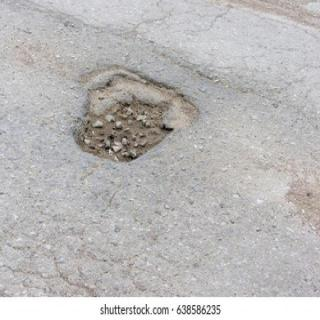pothole: (74, 66, 200, 163)
